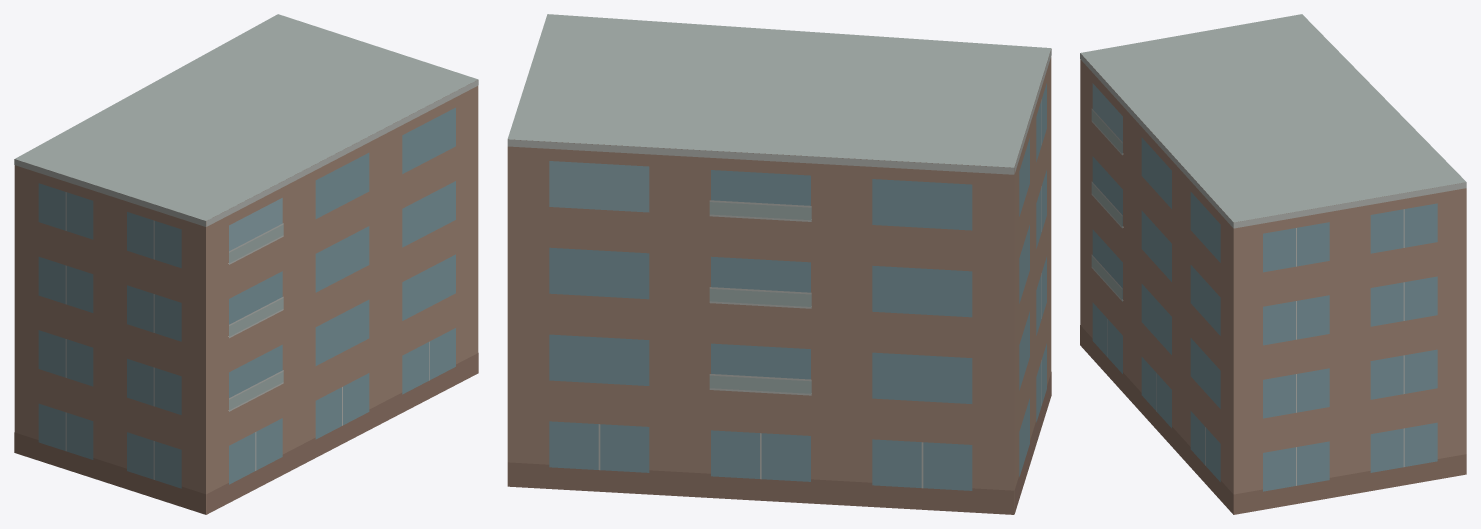
File: survey-upis-32958207.glb
3 views of the same model, side by side, from view 1: azimuth 30°, elevation 25°; view 2: azimuth 150°, elevation 25°; view 3: azimuth 270°, elevation 25° (orthographic). The views are drawn at different scales.
Parts seen in each view (by area): view 1: survey-upis-32958207.tmp; view 2: survey-upis-32958207.tmp; view 3: survey-upis-32958207.tmp.
Part boxes in pixels (x1=…): survey-upis-32958207.tmp: x1=14, y1=14, x2=478, y2=514; survey-upis-32958207.tmp: x1=507, y1=14, x2=1051, y2=514; survey-upis-32958207.tmp: x1=1080, y1=14, x2=1466, y2=514.
Bounding box in the file's own units: 18.16 × 11.86 × 14.22.
